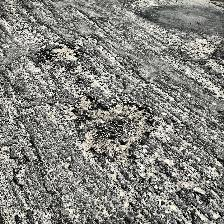pothole: (74, 93, 152, 162), (34, 42, 80, 64)
